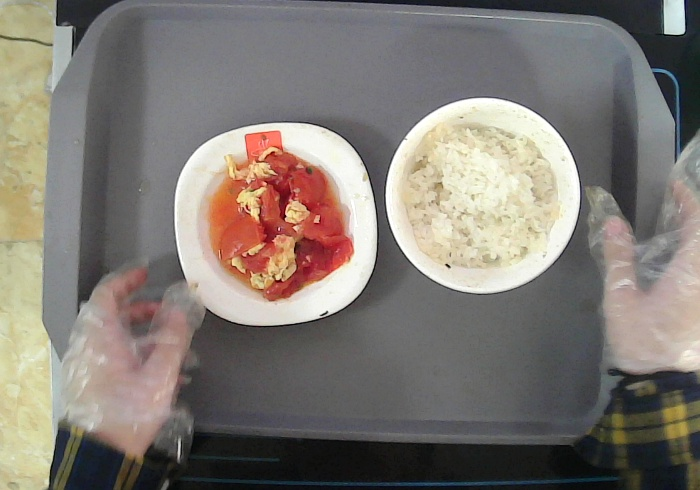SHKJ-Bai_Se_Si_Fang_Cai_Die: (174, 122, 377, 327)
SHKJ-Fan_Wan: (386, 97, 579, 296)
